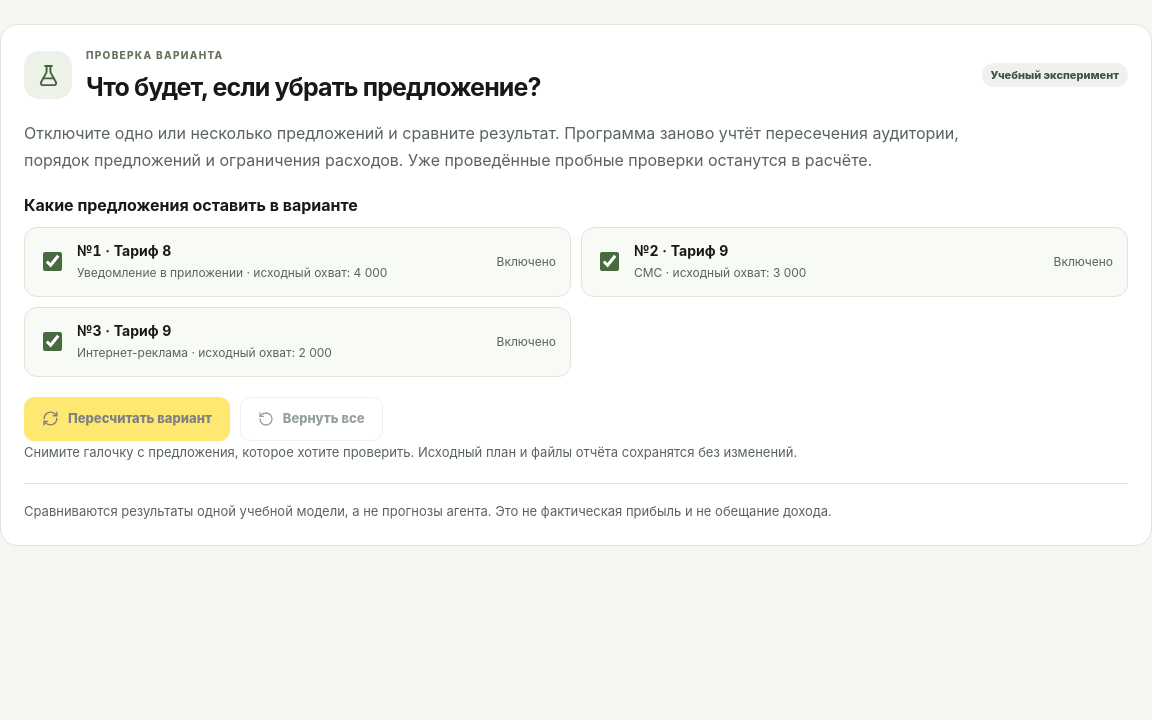
Test: locks selection while pending and aborts requests on unmount
This screenshot has width=1152, height=720.
Click the 1st checkbox at (52, 262), box [43,252,62,271]
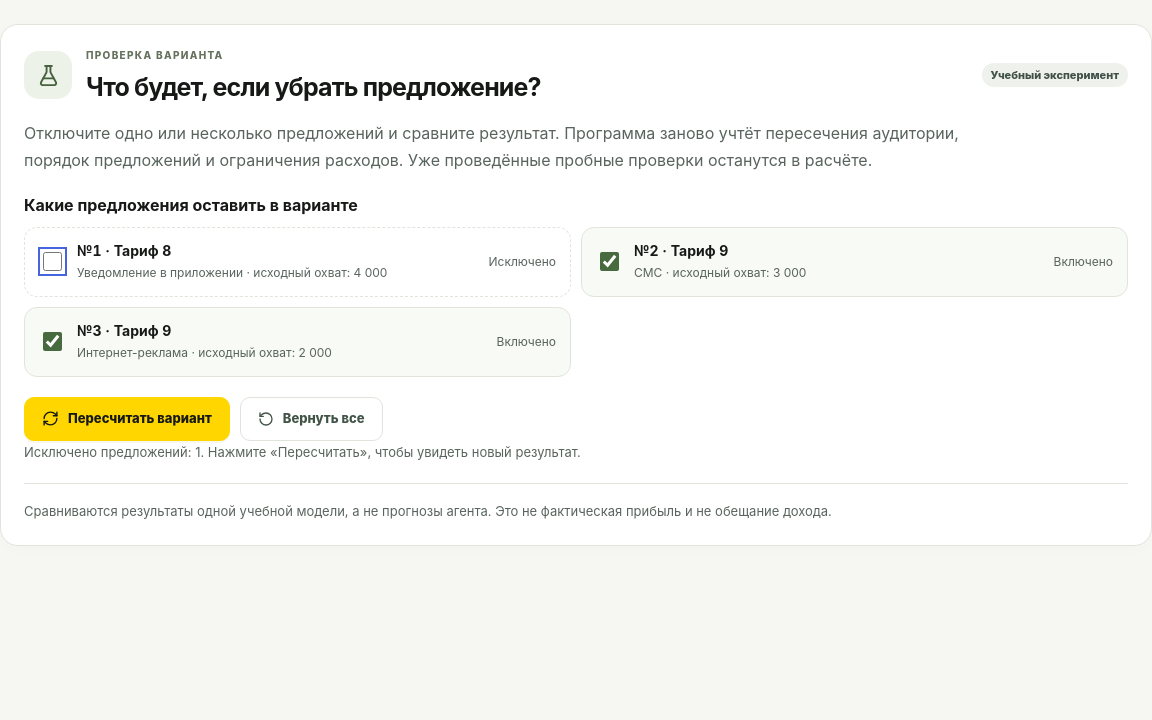
Click the button "Пересчитать вариант" at (127, 419), box [24,397,230,441]
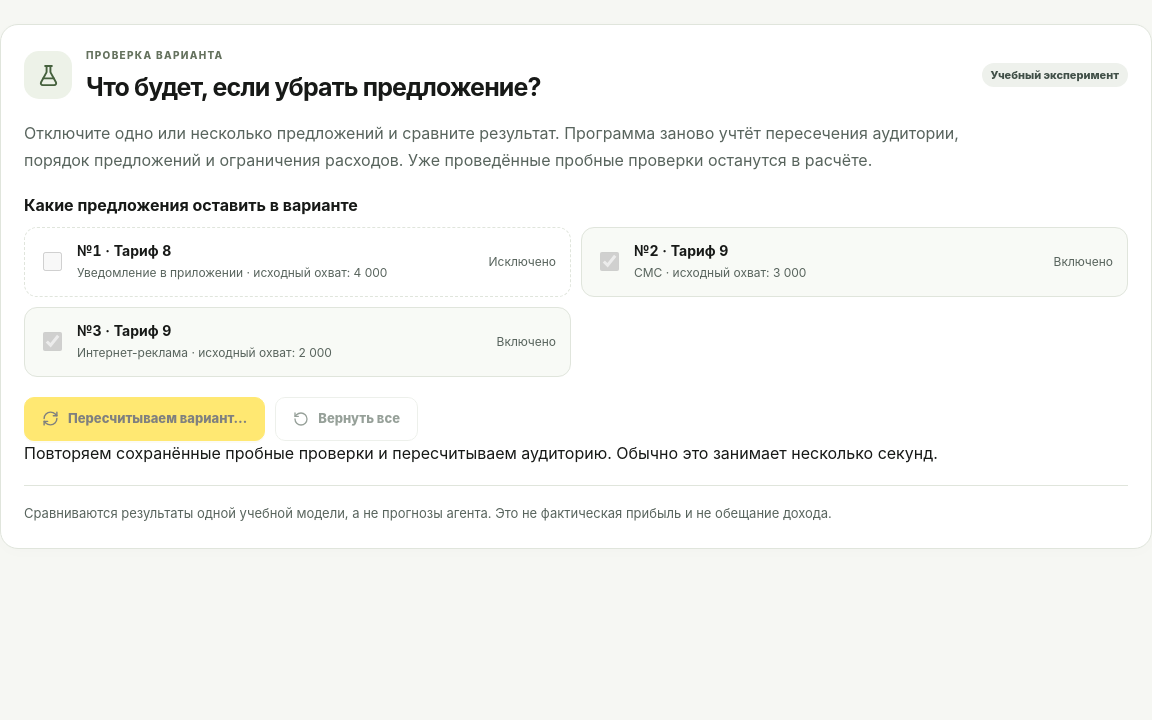
Expected: the 1st checkbox is disabled, [43,252,62,271]
Expected: the button "Пересчитываем вариант…" is disabled, [24,397,265,441]
Expected: the message shows "Повторяем сохранённые", [24,443,938,463]
